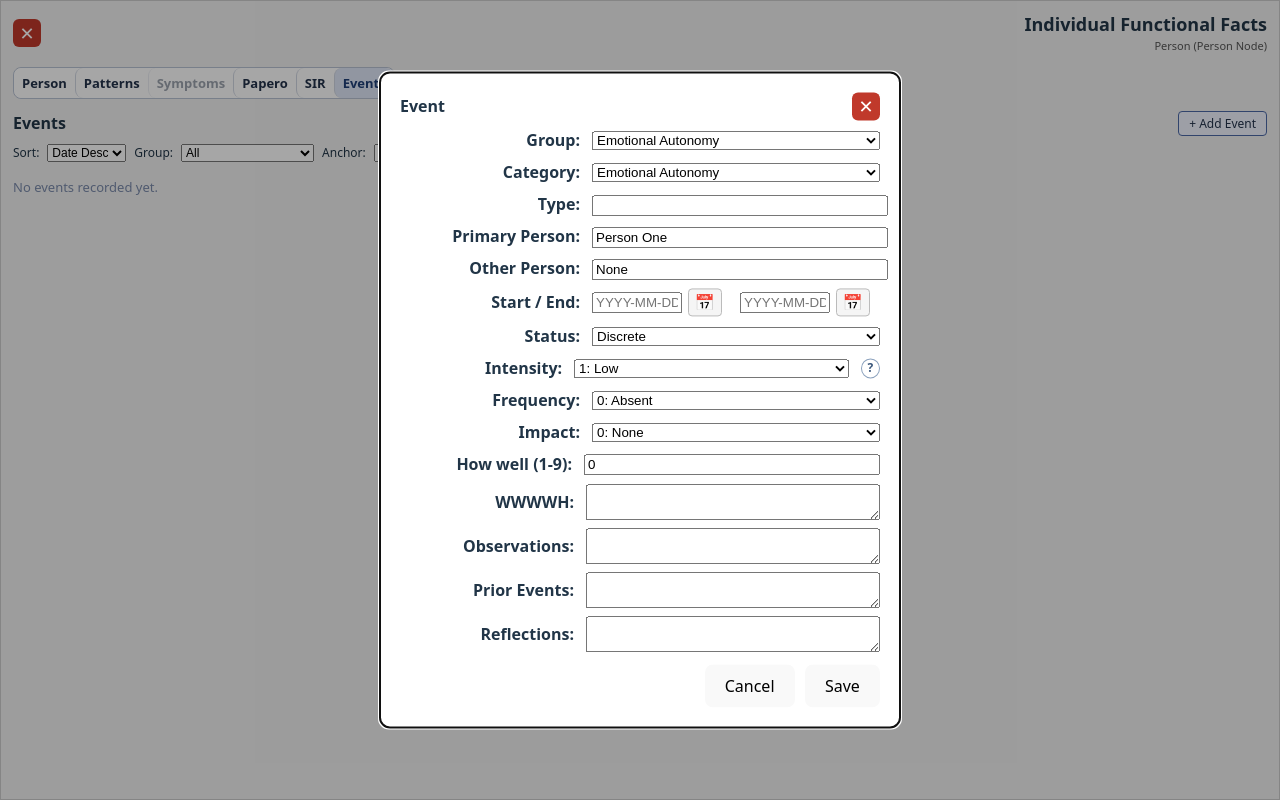
Test: PropertiesPanel › opens a seeded emotional autonomy modal and applies an intensity from help
The image size is (1280, 800).
Check: the heading "Event" is shown, box [400,94,445,118]
Click the button named "Intensity scale help": (870,368) [861,358,880,378]
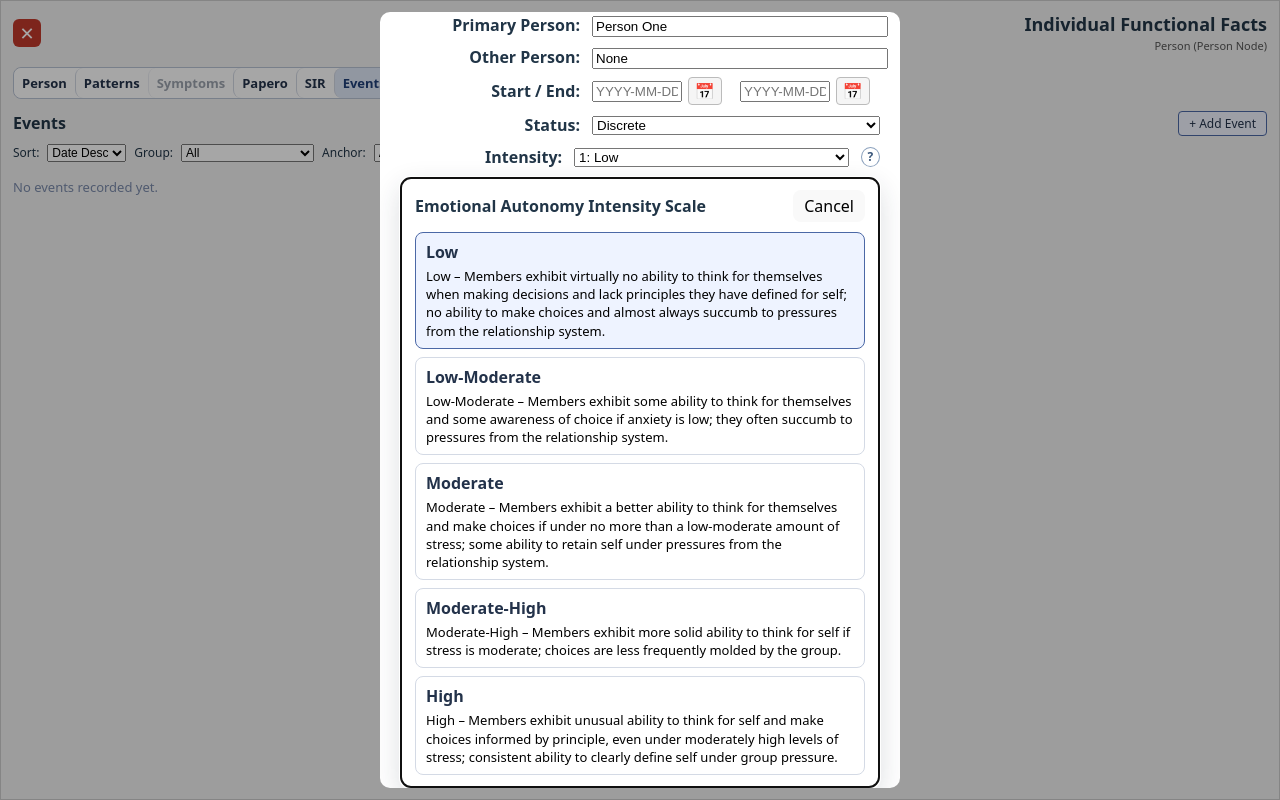
Click the button "Moderate-High": (640,628) [415,588,865,668]
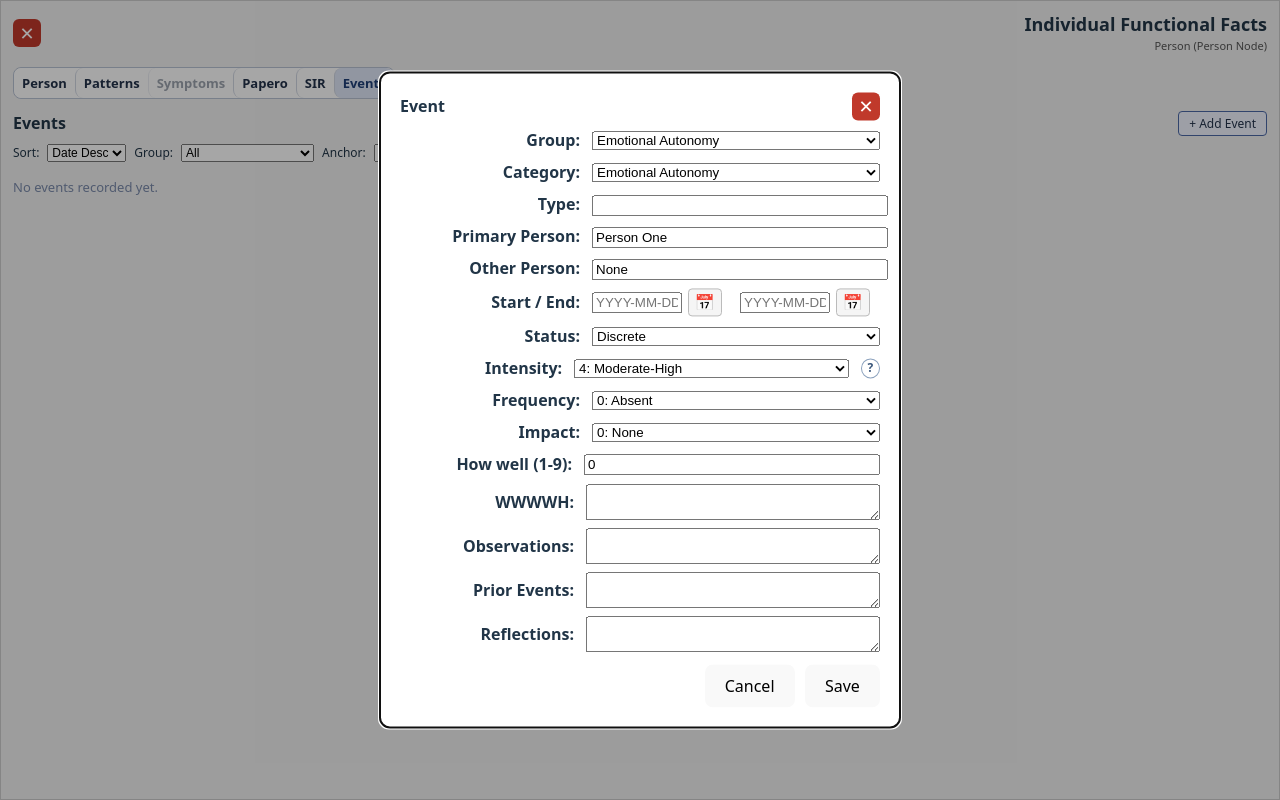
Check: the dropdown labelled "Intensity:" shows "4: Moderate-High", box [574,359,849,378]
